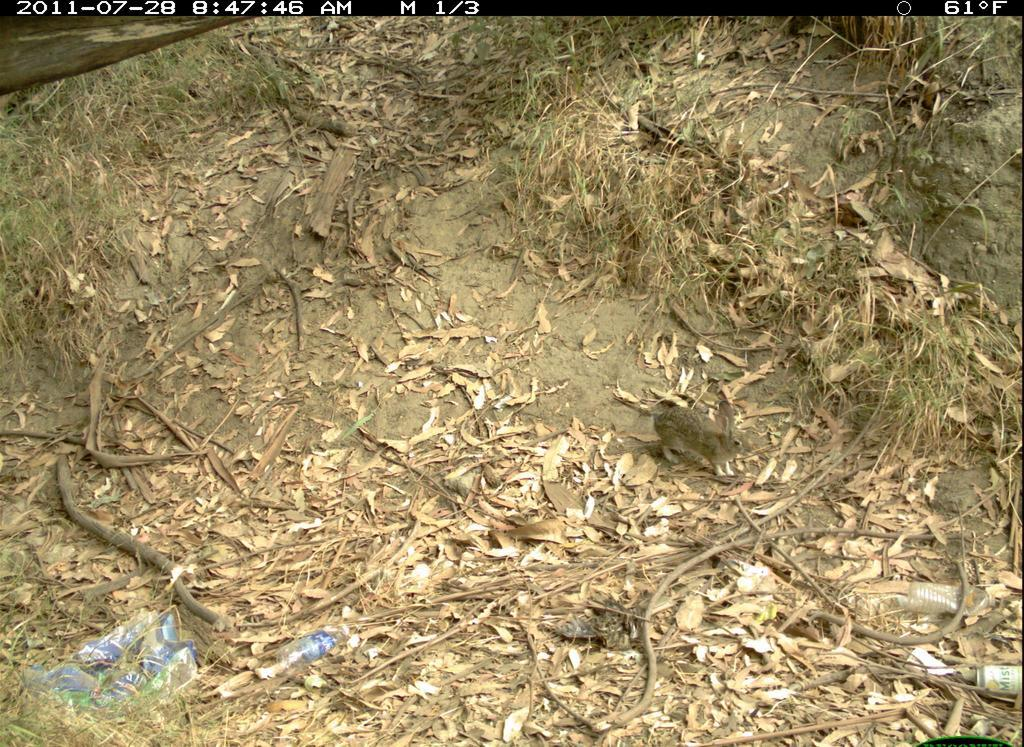rabbit: (652, 386, 760, 488)
